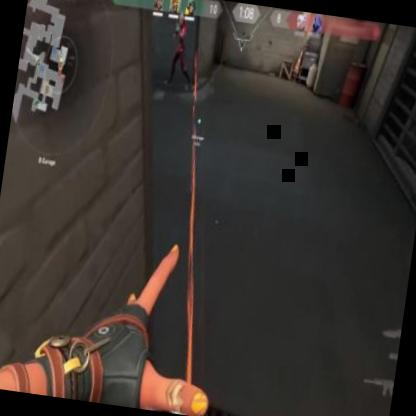enemy: (161, 10, 203, 94)
enemy_head: (177, 13, 185, 27)
